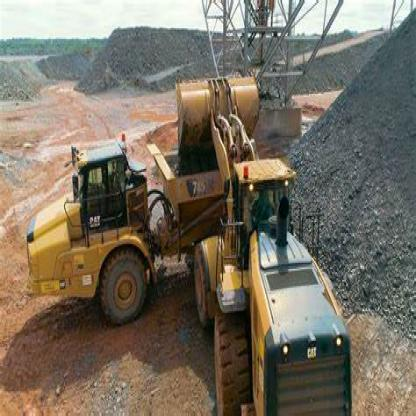bull_dozer/loader/grader: (168, 68, 366, 414)
dump_truck: (11, 124, 207, 342)
